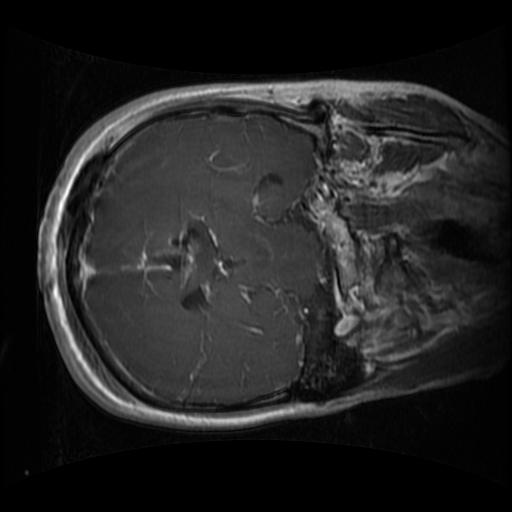glioma: (119, 210, 247, 316)
